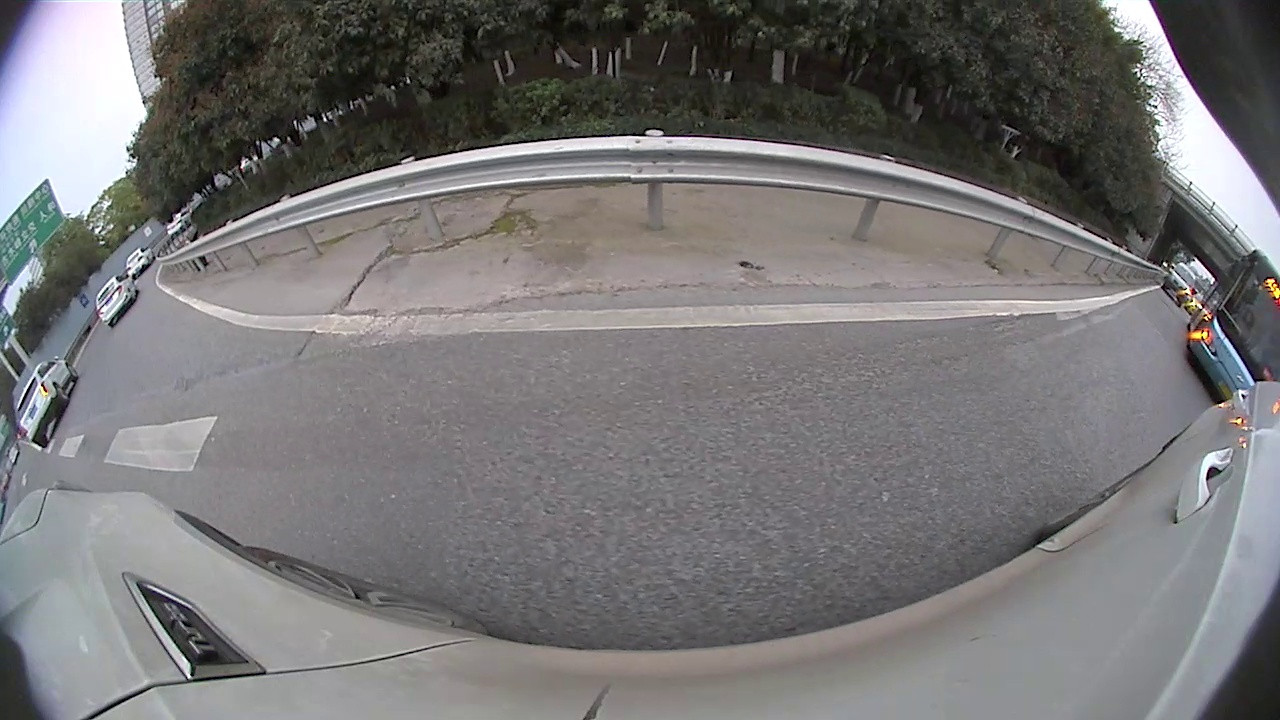bus: (1186, 247, 1279, 408)
car: (12, 356, 83, 449), (91, 271, 142, 329), (1160, 258, 1198, 309), (123, 242, 157, 276)
rear: (54, 385, 71, 403)
